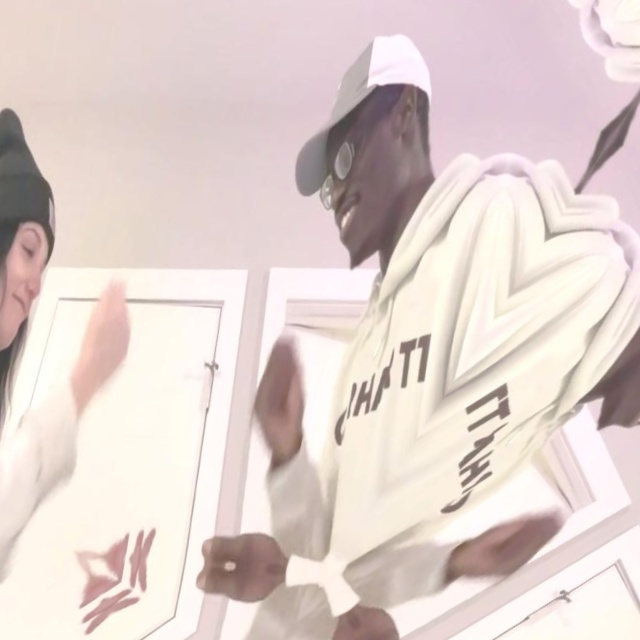Rock: (204, 312, 357, 477), (40, 260, 176, 406)
